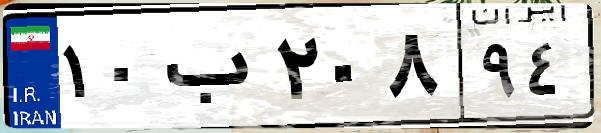0: (330, 28, 385, 110), (110, 28, 158, 98)
1: (57, 26, 110, 100)
2: (270, 28, 330, 110)
4: (525, 38, 570, 115)
8: (385, 28, 445, 110)
9: (475, 38, 525, 113)
ب: (158, 20, 270, 120)
